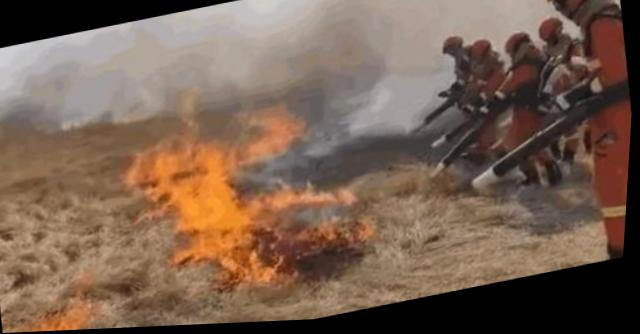fire: (115, 86, 395, 328), (5, 300, 100, 332)
